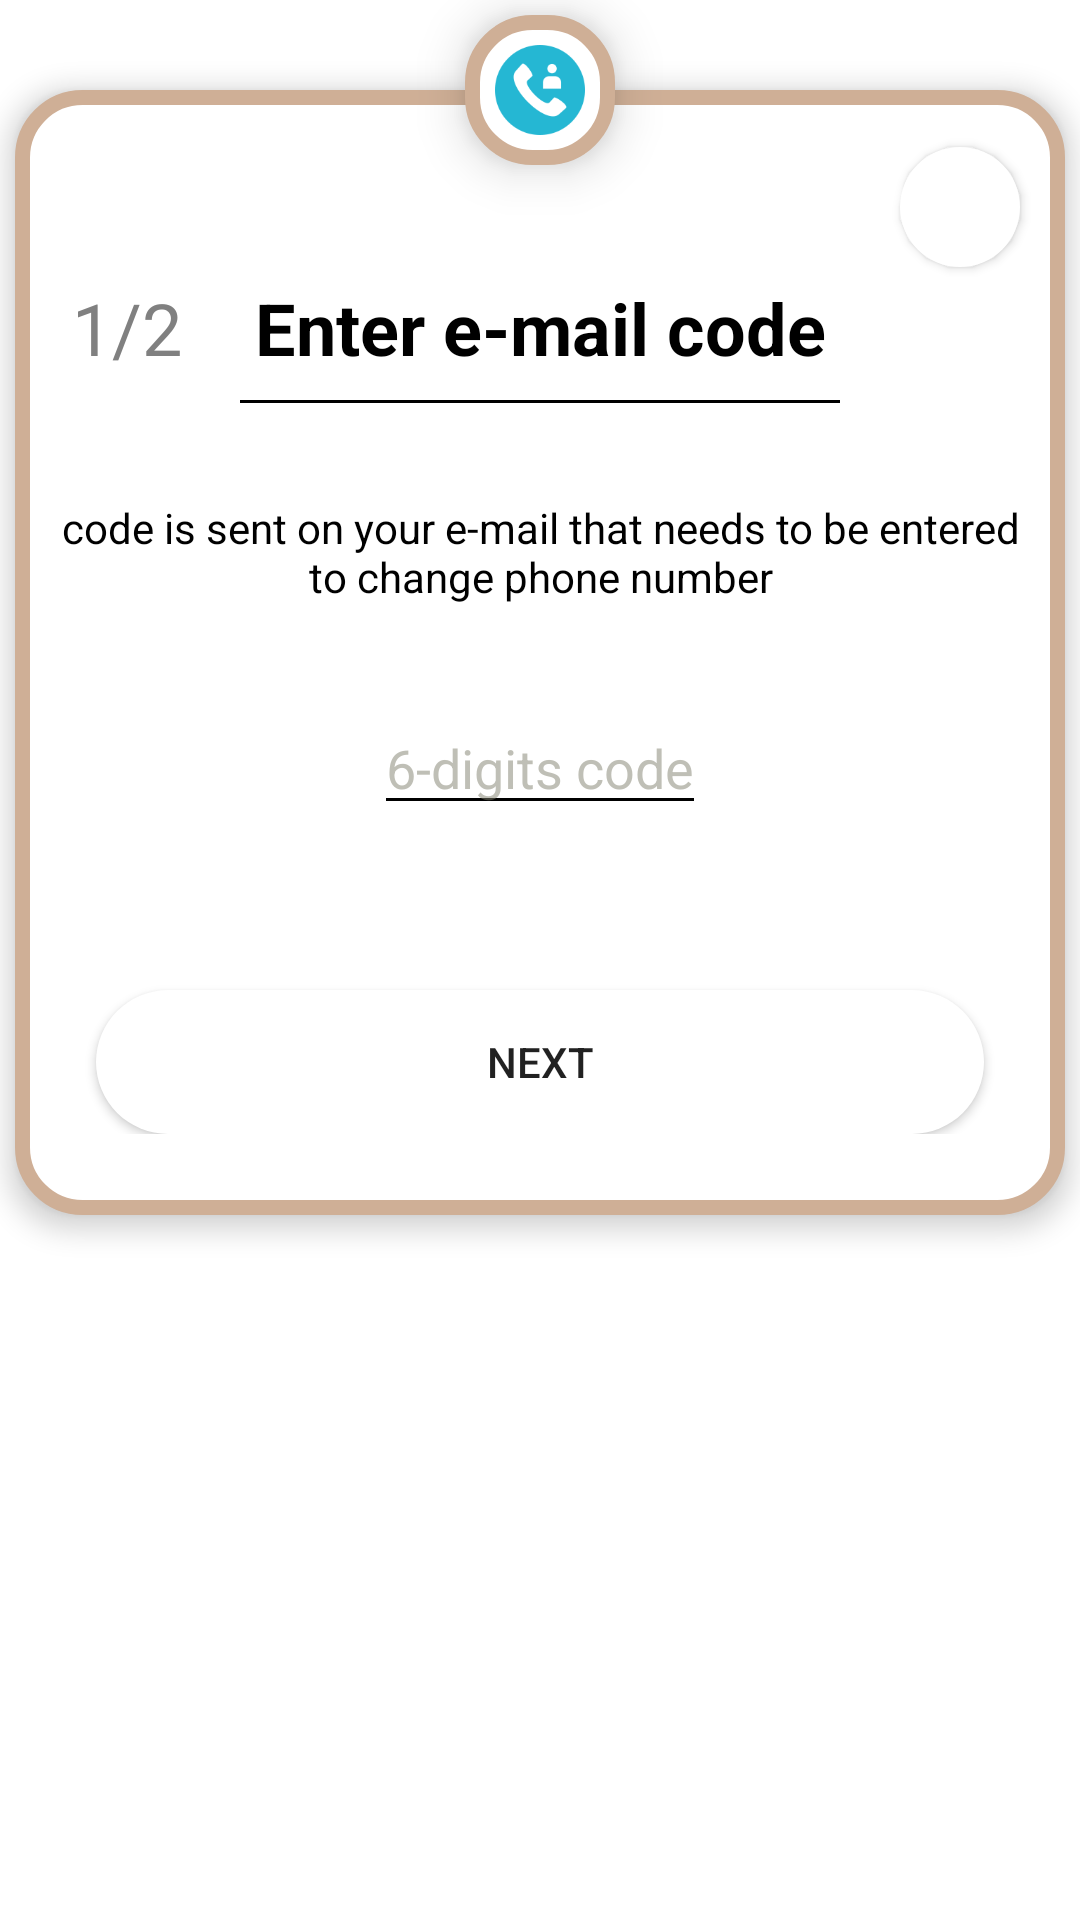

Named icons in this screenshot (1080×1920) and their bounding boxes, (x1=x1, y1=y1, x2=x2, y2=y2):
number: (x1=450, y1=15, x2=630, y2=165)
